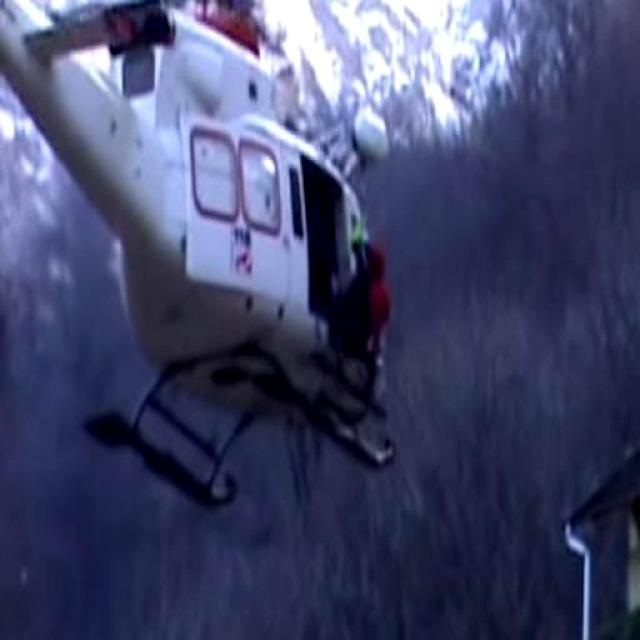drone: (0, 0, 404, 525)
